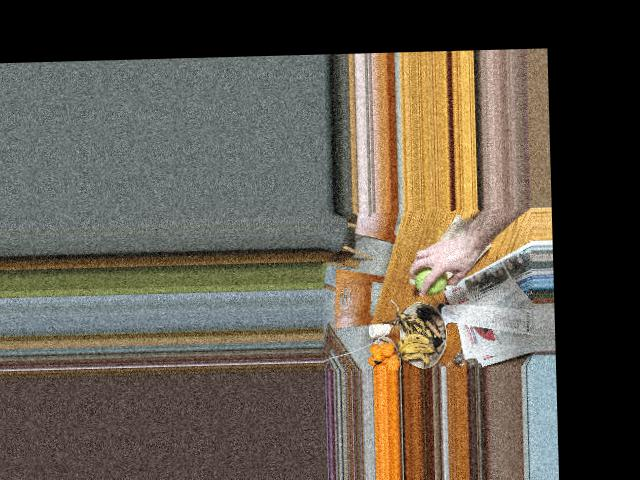apple: (415, 260, 451, 295)
